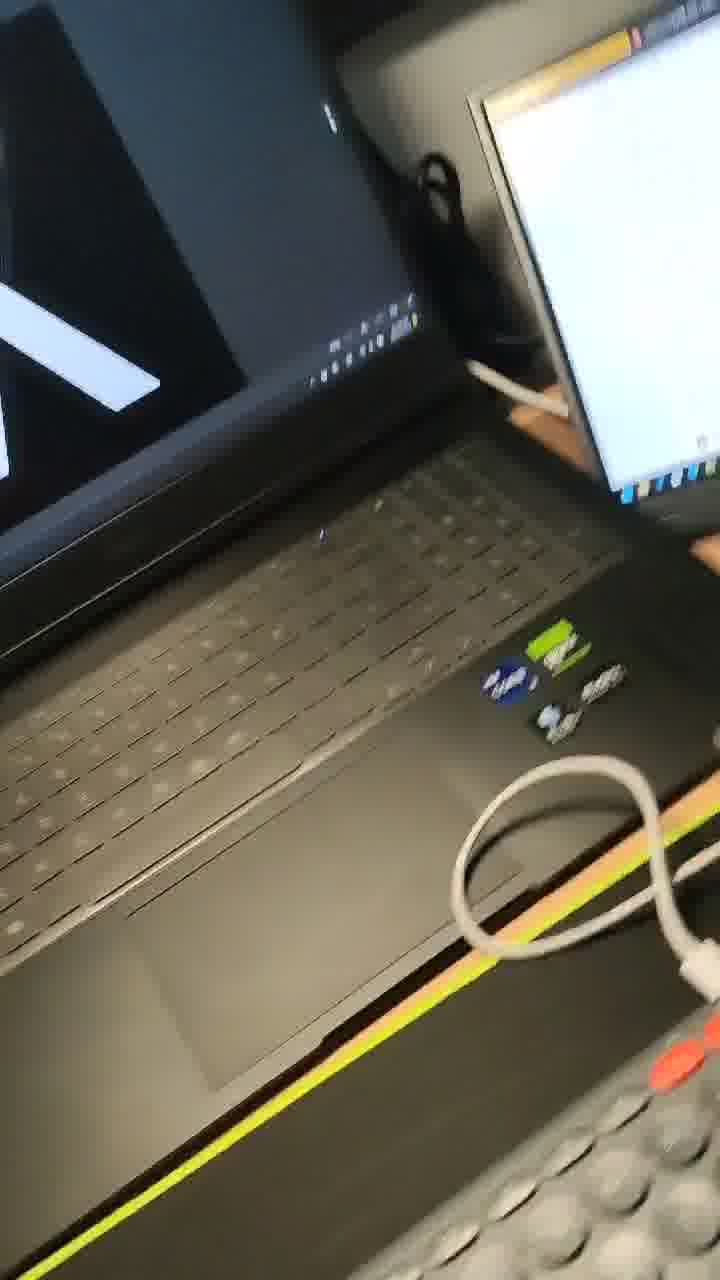X: (1, 154, 291, 513)
